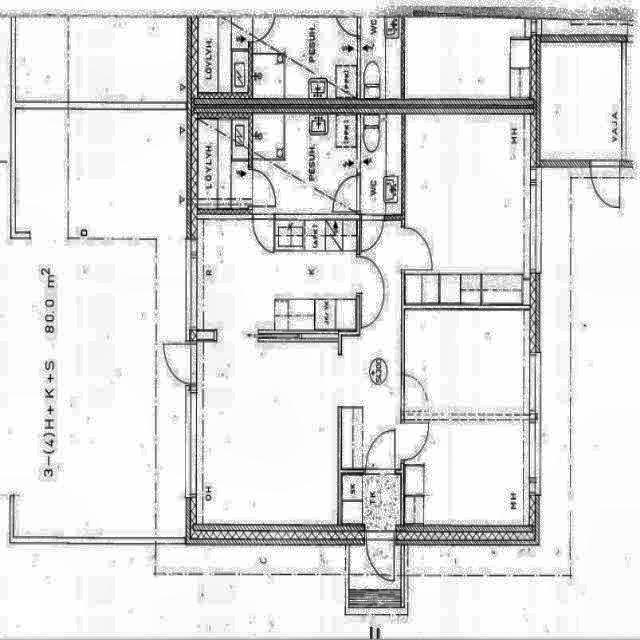room: (196, 342, 338, 524), (405, 114, 530, 304), (197, 219, 356, 330), (405, 420, 529, 525), (405, 310, 529, 414), (253, 114, 356, 214), (540, 42, 621, 160), (197, 119, 248, 209), (361, 114, 401, 214), (343, 475, 401, 525)
